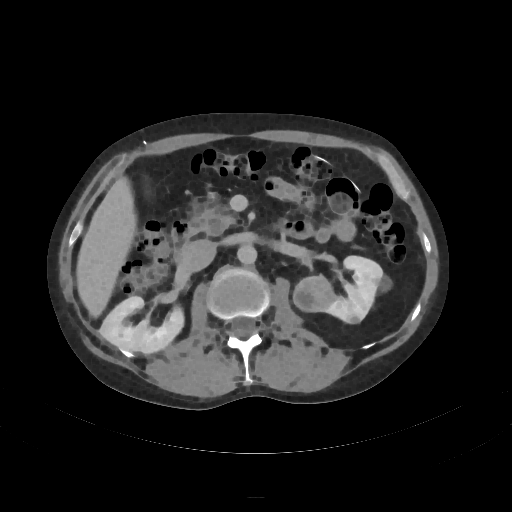Lesion: (288, 270, 340, 315)
